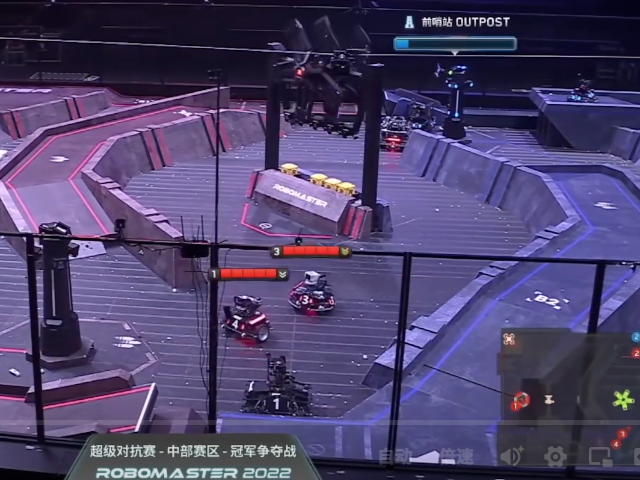rm: (240, 351, 313, 419), (220, 292, 274, 345), (289, 266, 338, 317), (381, 115, 412, 151), (404, 102, 439, 131), (569, 77, 597, 104)
